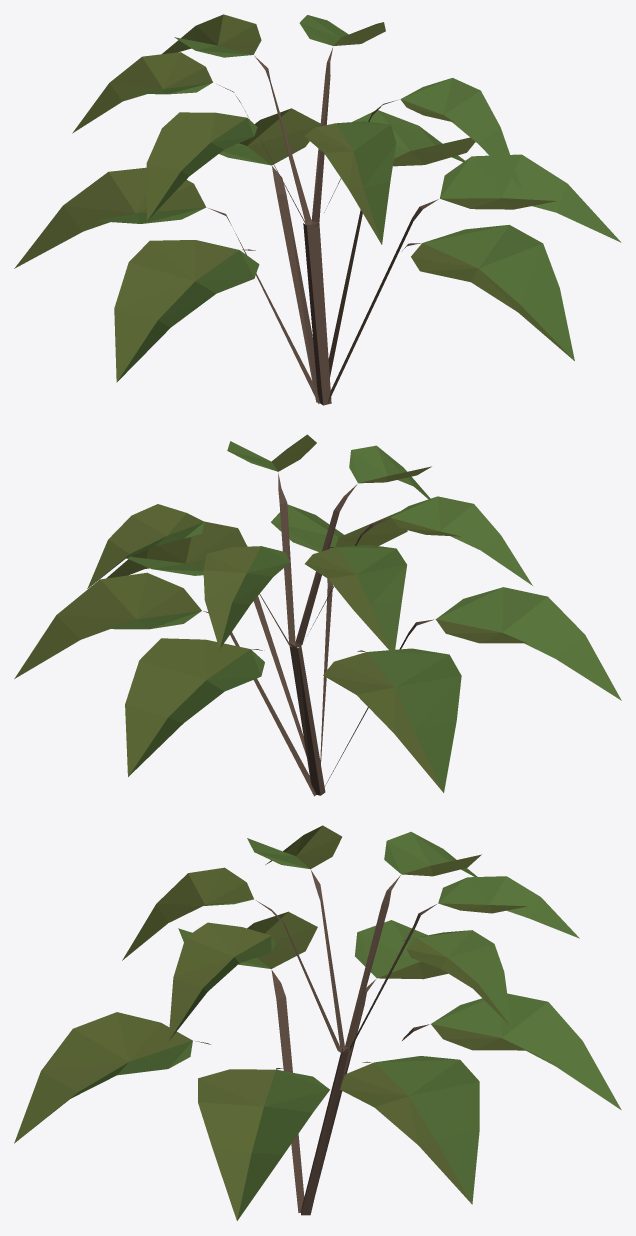
3 renders of one model, top to bottom at view 1: azimuth 30°, elevation 25°; view 2: azimuth 150°, elevation 25°; view 3: azimuth 270°, elevation 25°, orthographic. The views are drawn at different scales.
Bounding box in the file's own units: 250 × 142 × 248.
1 material, 1 textured.
